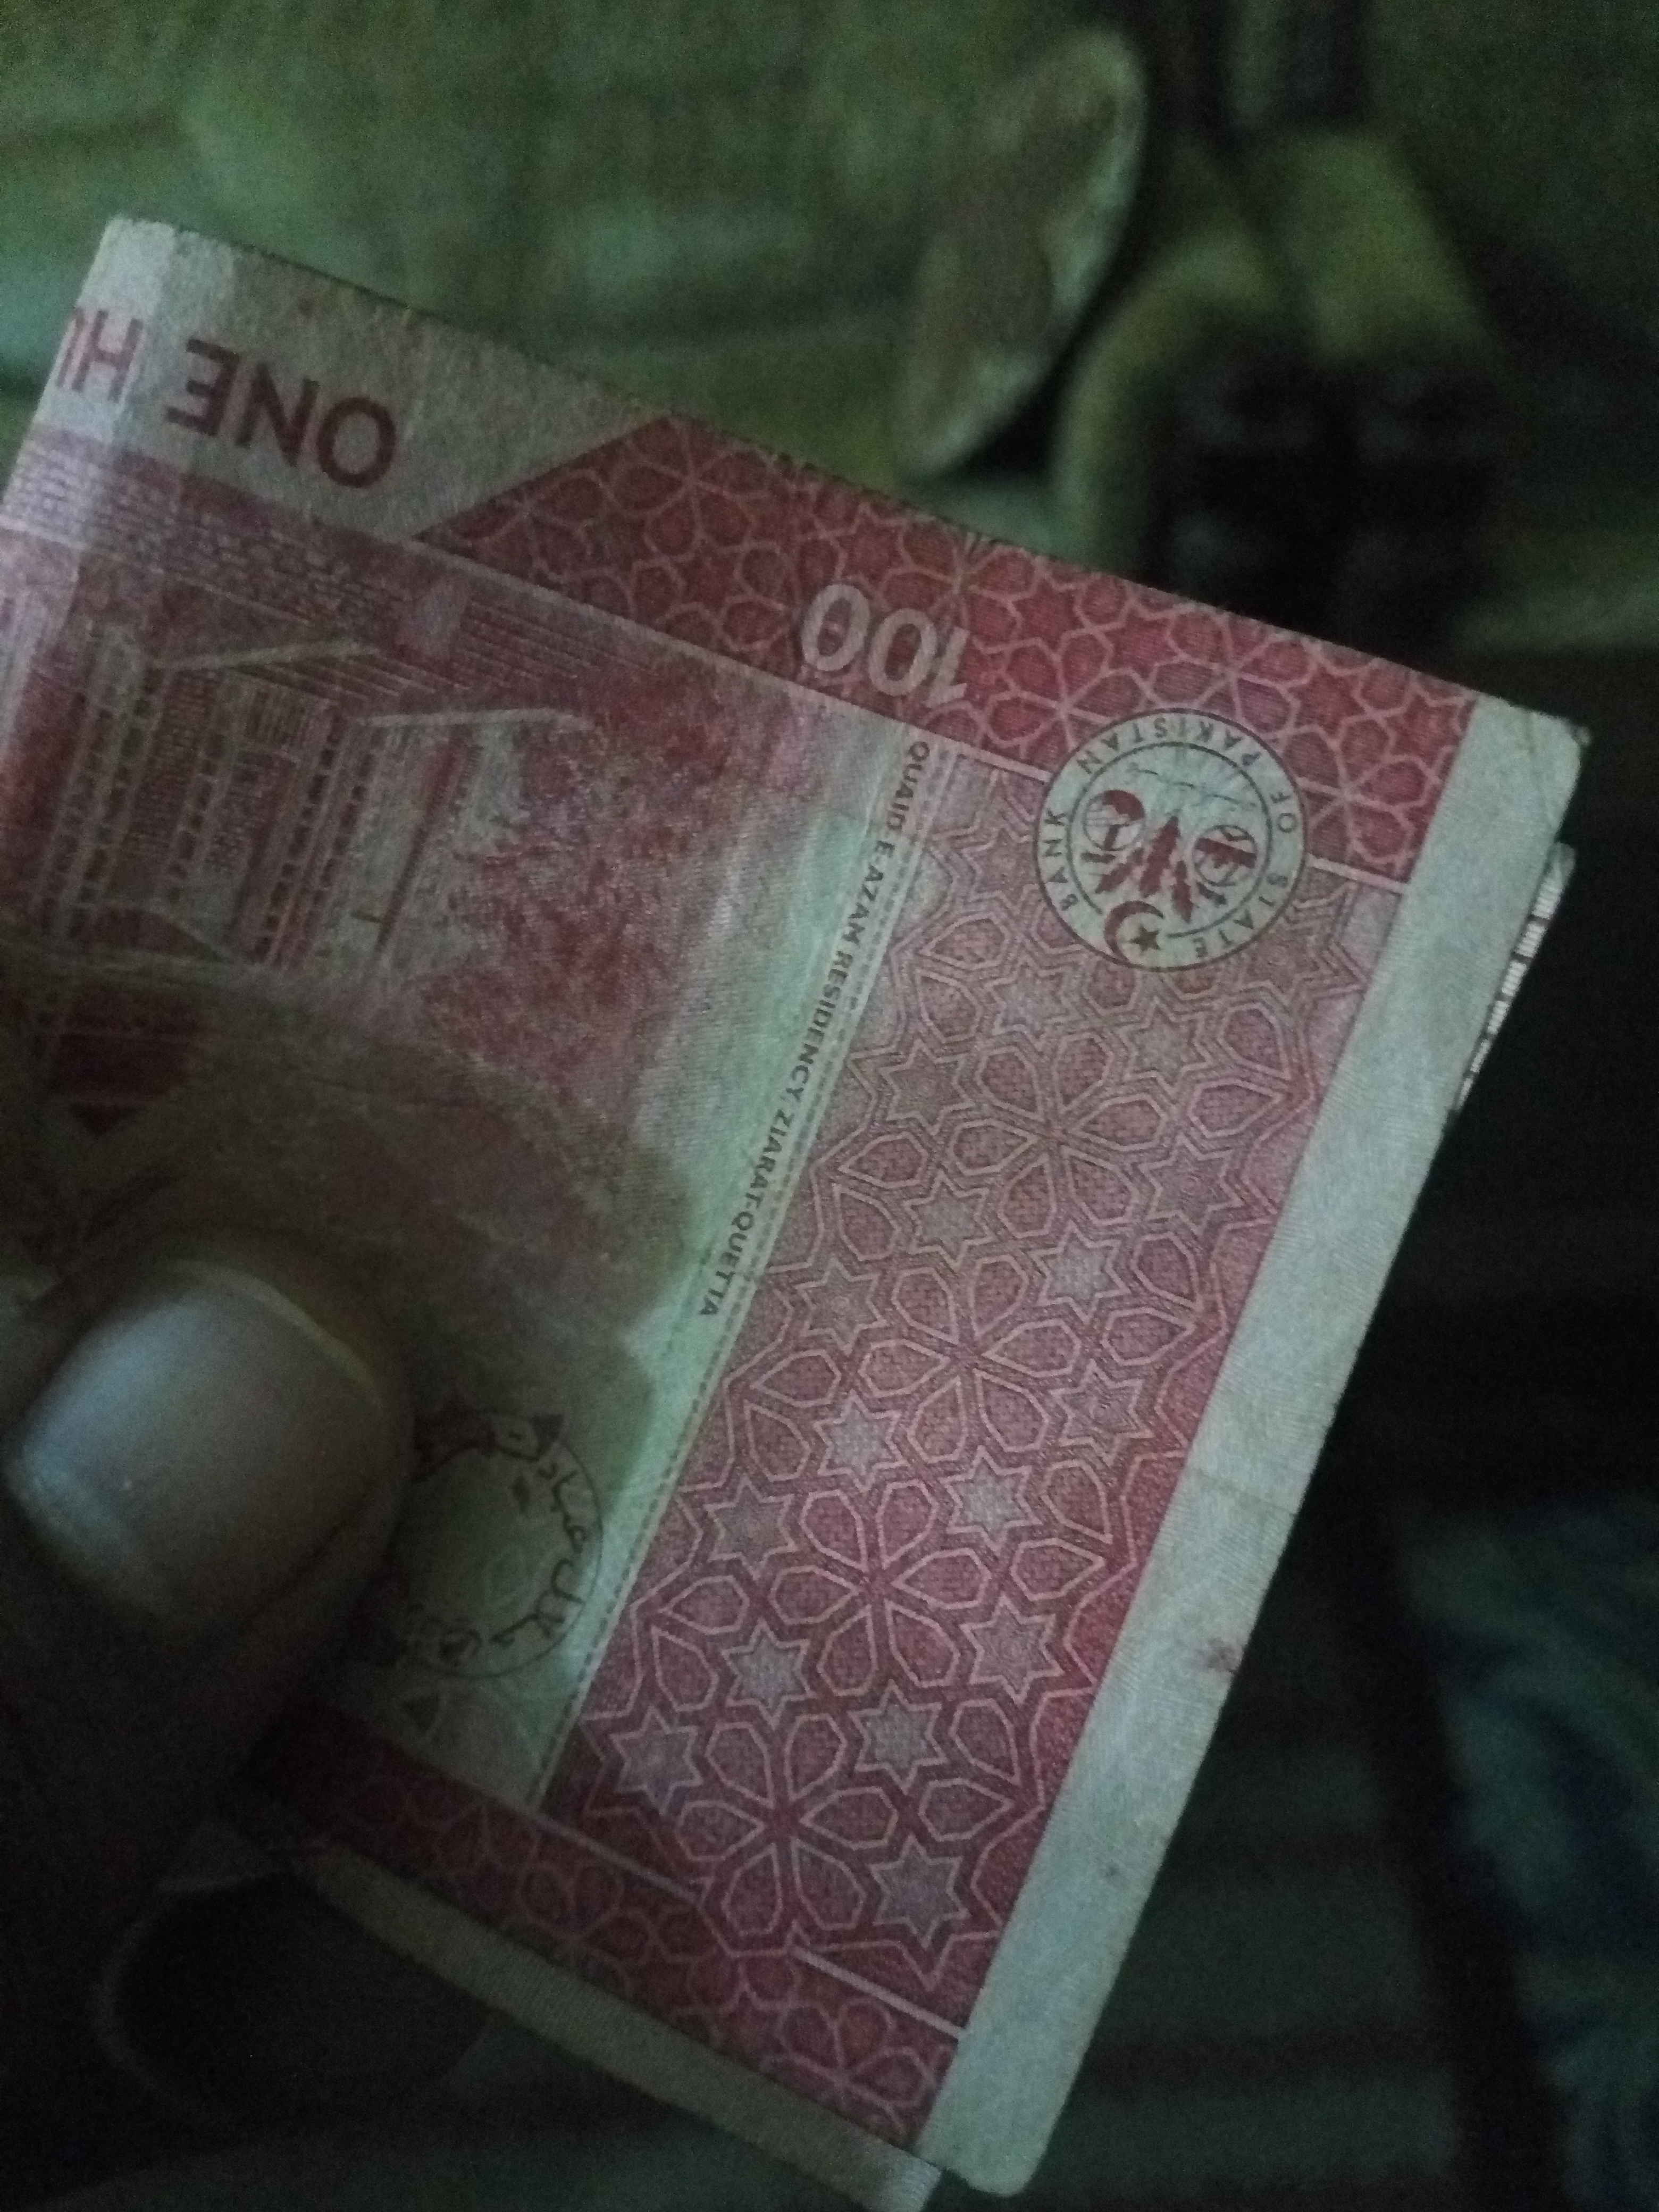100 rupee: (16, 146, 1601, 2203)
